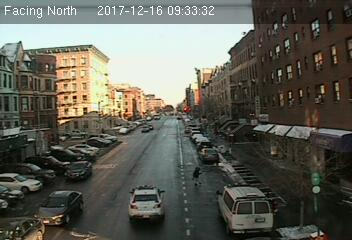car: (37, 190, 81, 227), (63, 160, 92, 182), (198, 148, 220, 164)
pedestrian: (191, 165, 203, 185)
police: (214, 180, 278, 237), (126, 183, 168, 223)
